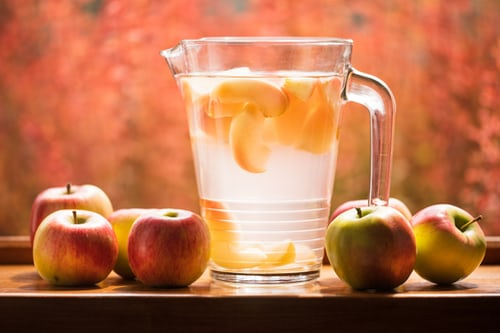apple: (325, 200, 417, 294), (124, 200, 213, 294), (409, 199, 489, 297), (33, 207, 120, 286), (30, 179, 114, 259), (107, 205, 158, 284), (324, 197, 416, 227)
